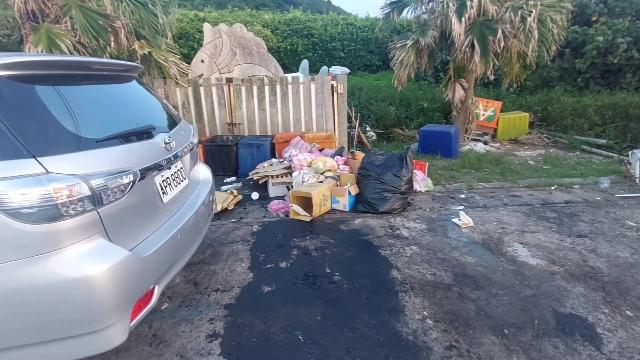pollute: (198, 132, 433, 222), (463, 97, 530, 152), (418, 122, 460, 161), (627, 149, 638, 187), (450, 211, 472, 227), (611, 188, 638, 198)
